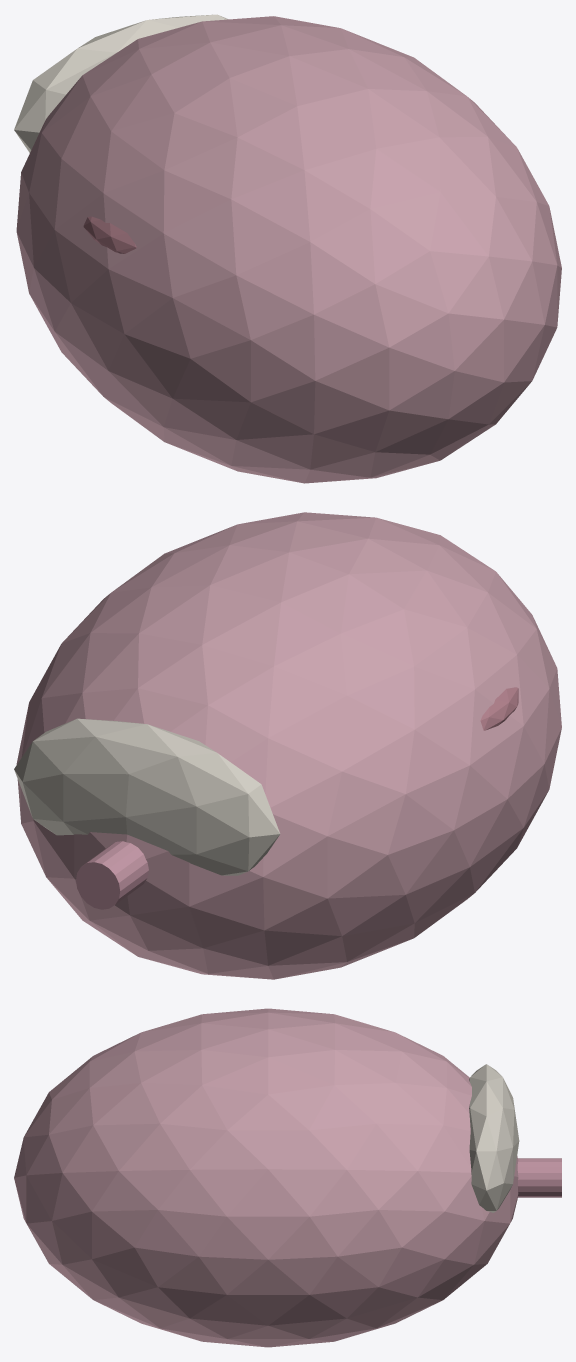
The model's file is pregnancy-t2-medium.glb.
3 renders of one model, top to bottom at view 1: azimuth 30°, elevation 25°; view 2: azimuth 150°, elevation 25°; view 3: azimuth 270°, elevation 25°, orthographic. The views are drawn at different scales.
Parts seen in each view (by area): view 1: uterus, maternal_pelvis_reference_proxy, placenta; view 2: uterus, maternal_pelvis_reference_proxy, cervix_proxy, placenta; view 3: uterus, maternal_pelvis_reference_proxy, cervix_proxy.
Part boxes in pixels (left/top/right/bottom): uterus: left=16, top=16, right=561, bottom=483; maternal_pelvis_reference_proxy: left=14, top=14, right=228, bottom=152; placenta: left=83, top=216, right=136, bottom=253; uterus: left=16, top=512, right=561, bottom=979; maternal_pelvis_reference_proxy: left=14, top=718, right=280, bottom=875; cervix_proxy: left=76, top=841, right=148, bottom=909; placenta: left=480, top=687, right=518, bottom=730; uterus: left=14, top=1008, right=518, bottom=1347; maternal_pelvis_reference_proxy: left=469, top=1064, right=519, bottom=1212; cervix_proxy: left=517, top=1158, right=561, bottom=1197.
Size of the model in its own units: 2.36 by 2 by 3.34.
